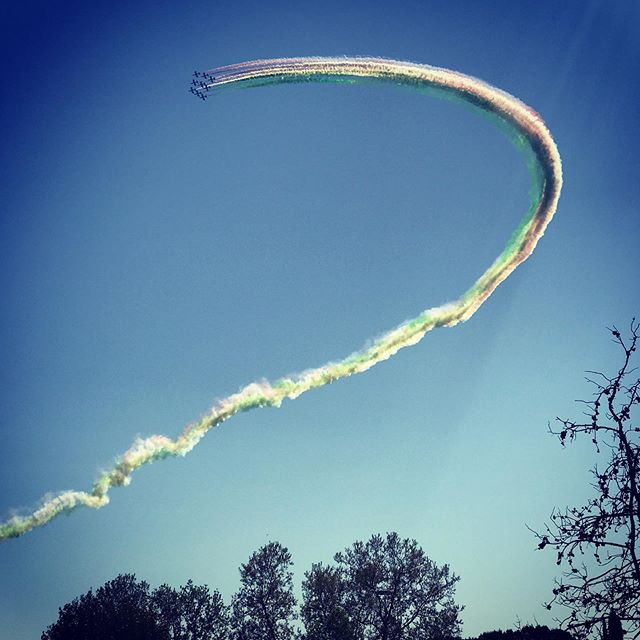plane: (167, 53, 232, 118)
sky: (8, 4, 639, 640)
tree: (536, 315, 640, 640), (302, 533, 456, 640), (35, 572, 231, 636), (228, 538, 304, 640)
